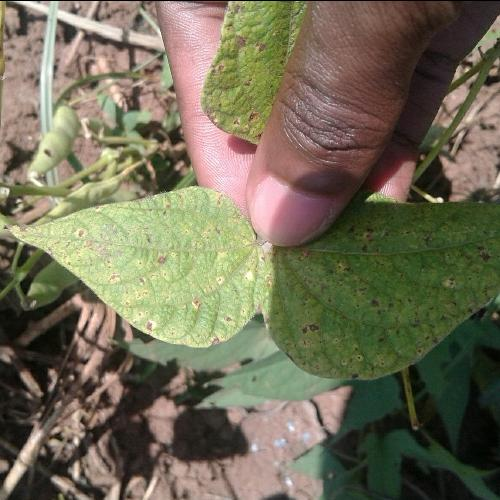hawar: (55, 192, 264, 387), (282, 228, 463, 399), (218, 10, 287, 144)
